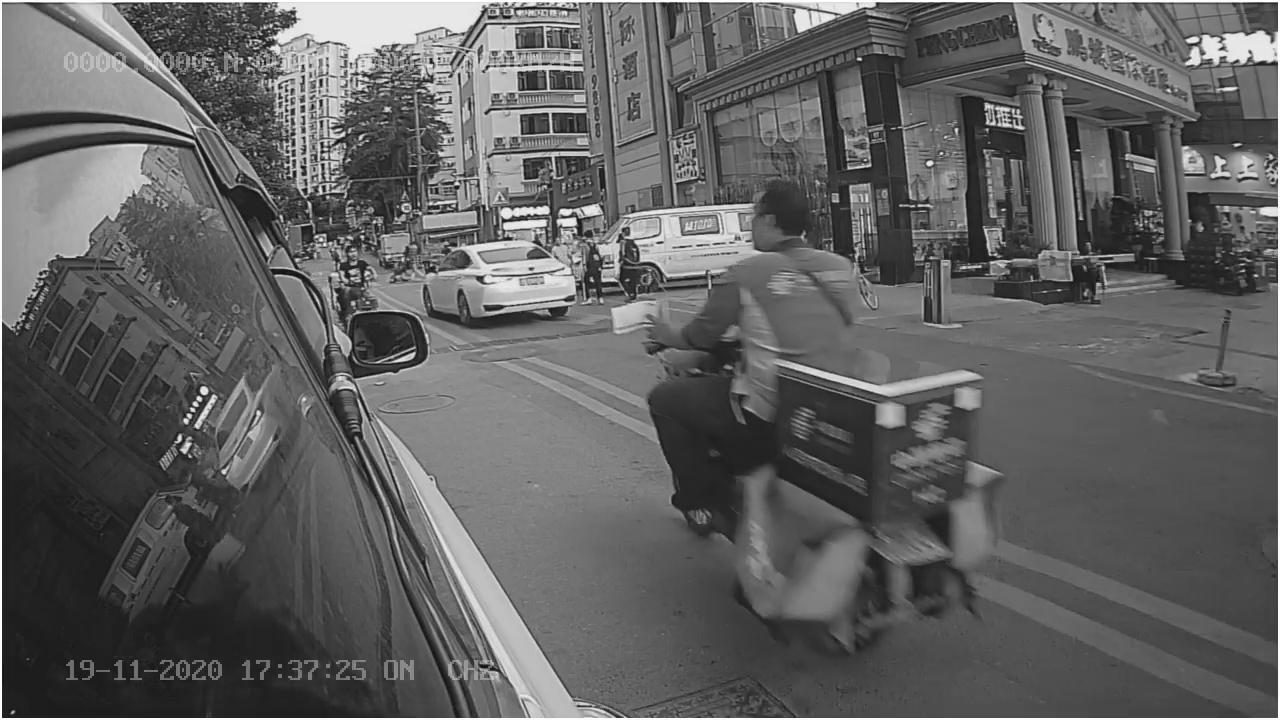person: (691, 186, 877, 340)
